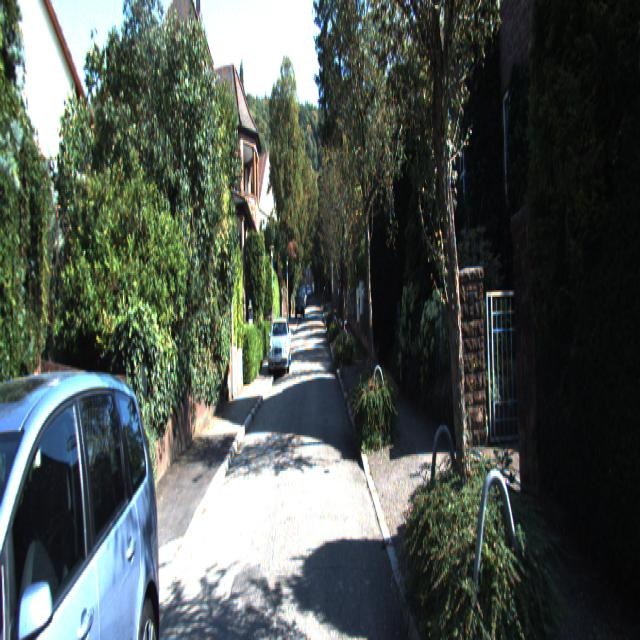Car: (0, 345, 171, 638), (268, 318, 291, 377)
